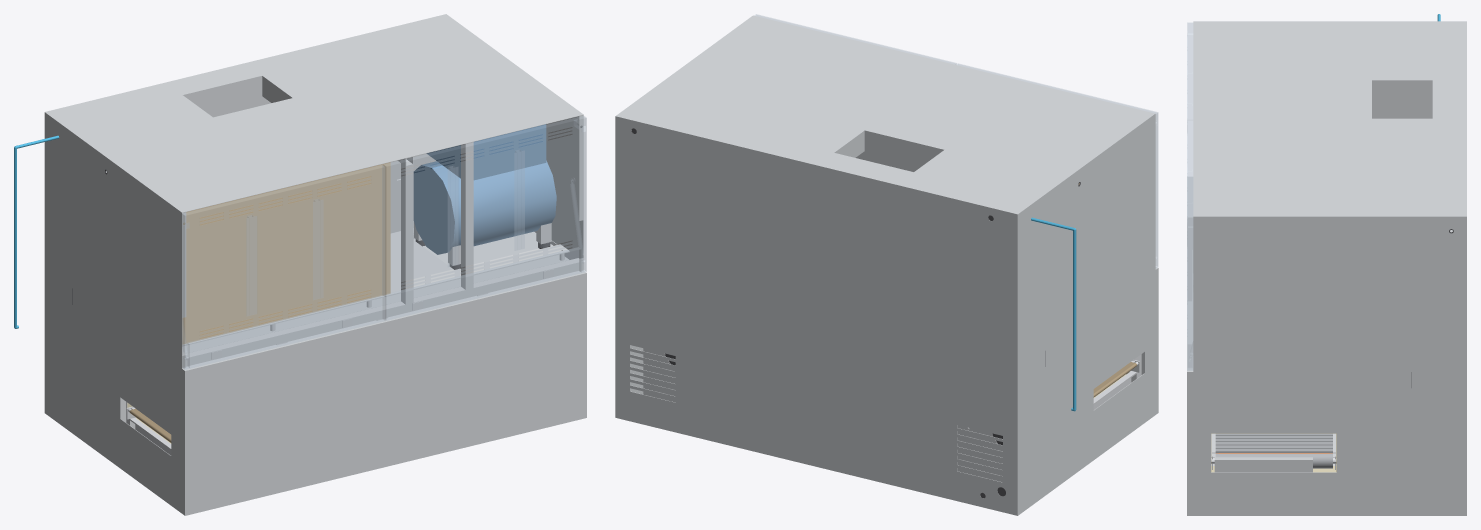
The model's file is modul_D.glb.
3 renders of one model, left to right at view 1: azimuth 30°, elevation 25°; view 2: azimuth 150°, elevation 25°; view 3: azimuth 270°, elevation 25°, orthographic.
Parts seen in each view (by area): view 1: F_UST_KABIN__sac, F_TP10_GOVDE__sac, F_UST_KAPAK__on_seffaf__KAPAK_F_SOL, F_UST_KAPAK__on_seffaf__KAPAK_F_SAG, D_PIZZA_YEDEK_UST, HAVA_KOMPRESOR__kompresor, F_UST_KABIN__paslanmaz, F_UST_RAF__sac, F_DAVLUMBAZ__sac, F_KOMP_AYAK__paslanmaz, HAVA_KOMPRESOR__hava_ana; view 2: F_UST_KABIN__sac, F_TP10_GOVDE__sac, F_DAVLUMBAZ__sac, F_UST_KAPAK__on_seffaf__KAPAK_F_SOL, HAVA_KOMPRESOR__hava_ana; view 3: F_UST_KABIN__sac, F_TP10_GOVDE__sac, F_DAVLUMBAZ__sac, F_TP10_KONVEYOR__tel_bant, F_UST_KAPAK__on_seffaf__KAPAK_F_SAG, F_CIKIS_PLAKA__sac, F_TP10_KONVEYOR__tel_bant__RULO_TP_CIKIS, F_UST_KAPAK__on_seffaf__KAPAK_F_SOL, F_TP10_GOVDE__yalitim.
Boxes of the visible parts, x1,y1,x2,y2 form: F_UST_KABIN__sac: (44, 14, 583, 432); F_TP10_GOVDE__sac: (72, 271, 586, 515); F_UST_KAPAK__on_seffaf__KAPAK_F_SOL: (182, 165, 385, 369); F_UST_KAPAK__on_seffaf__KAPAK_F_SAG: (383, 116, 586, 320); D_PIZZA_YEDEK_UST: (182, 162, 390, 344); HAVA_KOMPRESOR__kompresor: (413, 124, 556, 254); F_UST_KABIN__paslanmaz: (182, 142, 579, 366); F_UST_RAF__sac: (182, 228, 569, 354); F_DAVLUMBAZ__sac: (106, 76, 436, 233); F_KOMP_AYAK__paslanmaz: (413, 231, 557, 265); HAVA_KOMPRESOR__hava_ana: (14, 135, 59, 328); F_UST_KABIN__sac: (615, 15, 1155, 515); F_TP10_GOVDE__sac: (643, 267, 1158, 494); F_DAVLUMBAZ__sac: (835, 131, 943, 171); F_UST_KAPAK__on_seffaf__KAPAK_F_SOL: (956, 63, 1158, 267); HAVA_KOMPRESOR__hava_ana: (1031, 217, 1076, 411); F_UST_KABIN__sac: (1193, 21, 1466, 515); F_TP10_GOVDE__sac: (1187, 176, 1411, 515); F_DAVLUMBAZ__sac: (1372, 80, 1452, 232); F_TP10_KONVEYOR__tel_bant: (1215, 433, 1332, 452); F_UST_KAPAK__on_seffaf__KAPAK_F_SAG: (1187, 120, 1193, 370); F_CIKIS_PLAKA__sac: (1214, 457, 1312, 472); F_TP10_KONVEYOR__tel_bant__RULO_TP_CIKIS: (1215, 453, 1332, 468); F_UST_KAPAK__on_seffaf__KAPAK_F_SOL: (1187, 22, 1193, 120); F_TP10_GOVDE__yalitim: (1211, 433, 1336, 472).
Bounding box in the file's own units: 1.68 × 1.07 × 0.909.
